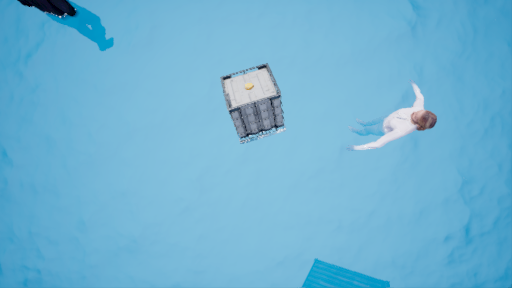person: (338, 89, 440, 165)
